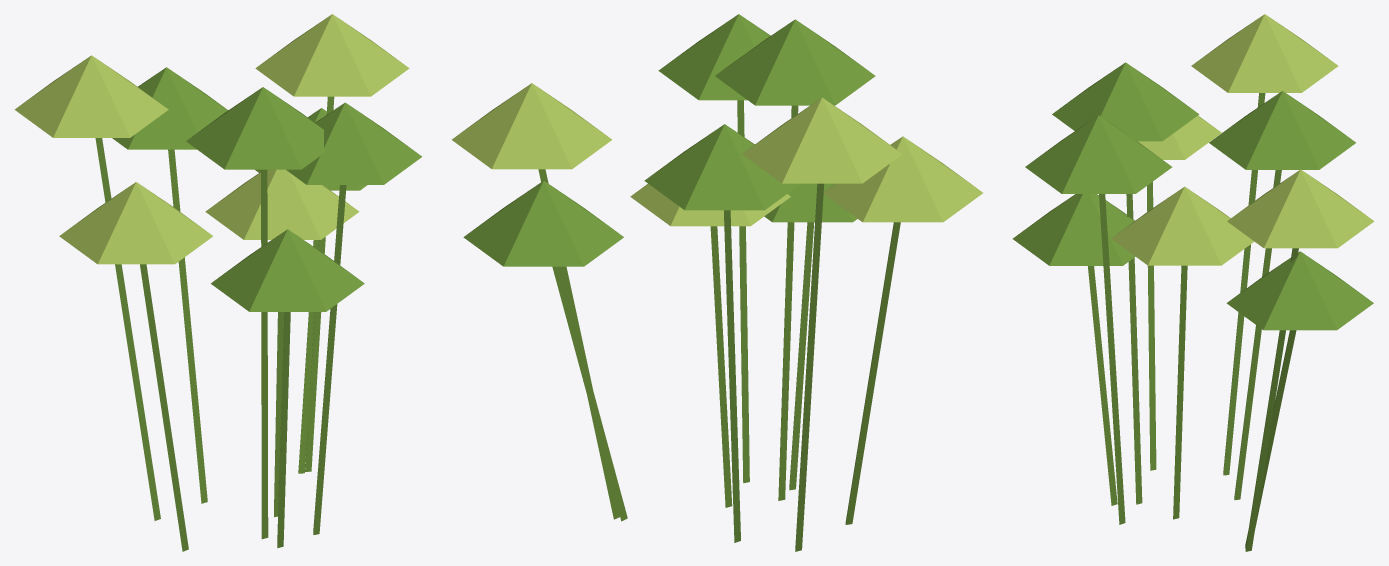
Rendered from papyrus_2.glb.
The picture shows the model from 3 angles, left to right: view 1: azimuth 30°, elevation 25°; view 2: azimuth 150°, elevation 25°; view 3: azimuth 270°, elevation 25°; orthographic projection. The views are drawn at different scales.
Parts seen in each view (by area): view 1: papyrus_2; view 2: papyrus_2; view 3: papyrus_2.
Part boxes in pixels (x1,y1,x2,y2): papyrus_2: (14,14,421,551); papyrus_2: (452,14,982,551); papyrus_2: (1012,14,1374,551).
Size of the model in its own units: 2.64 by 2.96 by 2.21.
